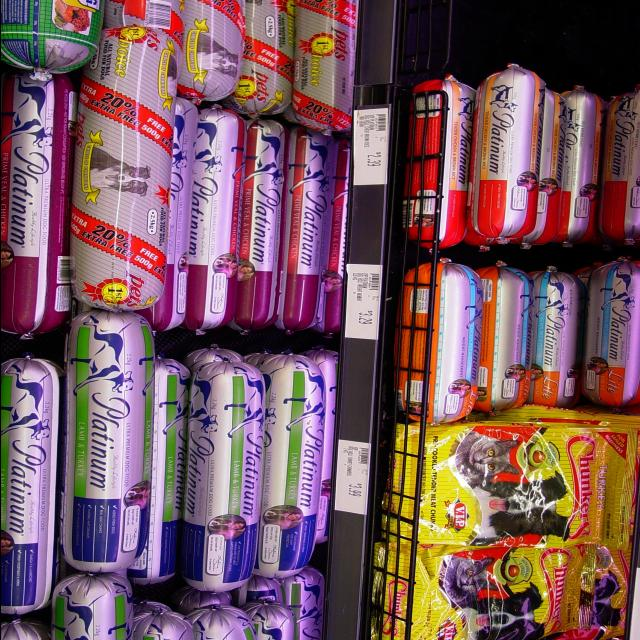empty_space: (416, 2, 640, 62)
